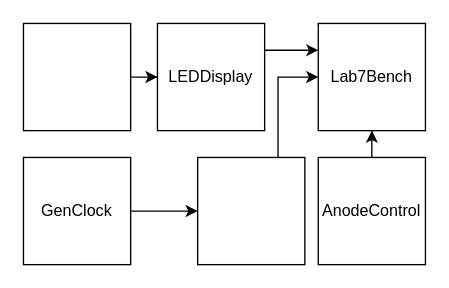
This 449x288 diagram has some shape labels left out. Here are the shapes that lost their labels. From the top down, the box of each, then its label:
(22, 22, 131, 131): dec_7Seg
(196, 156, 305, 265): traffic_light
